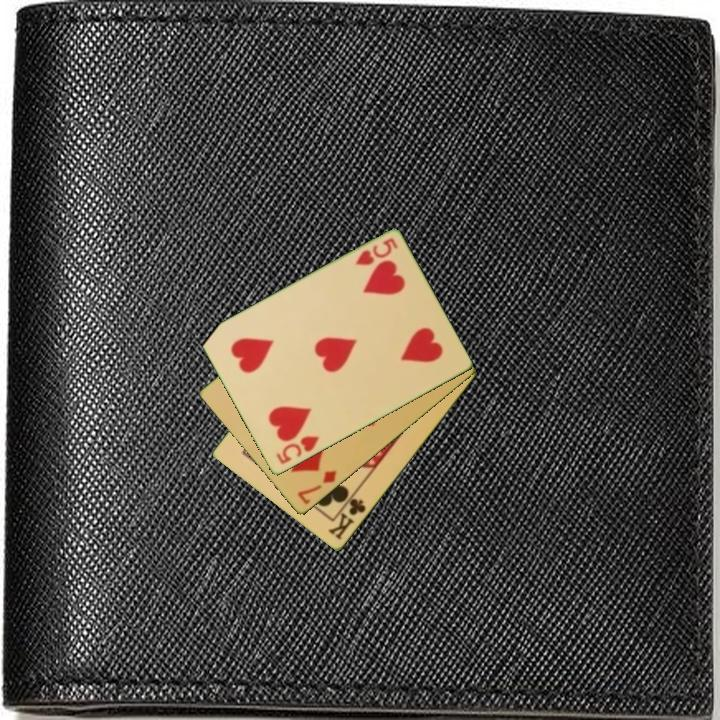5h: (273, 433, 322, 468), (351, 235, 400, 269)
7d: (294, 467, 340, 508)
Kc: (324, 489, 369, 543)
